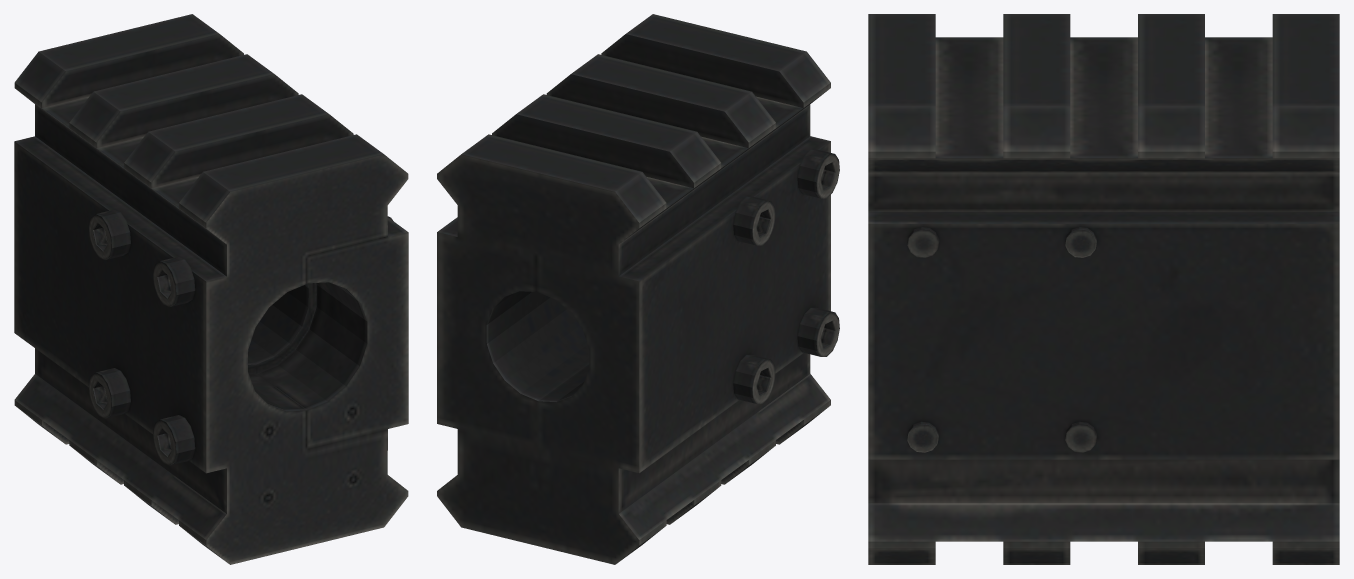
3 renders of one model, left to right at view 1: azimuth 30°, elevation 25°; view 2: azimuth 150°, elevation 25°; view 3: azimuth 270°, elevation 25°, orthographic. The views are drawn at different scales.
Parts seen in each view (by area): view 1: TW_57ee59b42459771c7b045da5_PZ_Import; view 2: TW_57ee59b42459771c7b045da5_PZ_Import; view 3: TW_57ee59b42459771c7b045da5_PZ_Import.
Boxes of the visible parts, <box> form: TW_57ee59b42459771c7b045da5_PZ_Import: <box>14,14,408,564</box>; TW_57ee59b42459771c7b045da5_PZ_Import: <box>437,14,839,564</box>; TW_57ee59b42459771c7b045da5_PZ_Import: <box>868,14,1339,564</box>.
Size of the model in its own units: 0.0137 by 0.0201 by 0.0216.
Materials: 1 (1 with a texture image).
